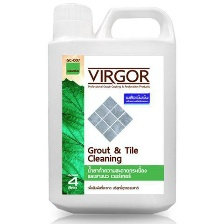cleaning_solution: (46, 2, 179, 218)
